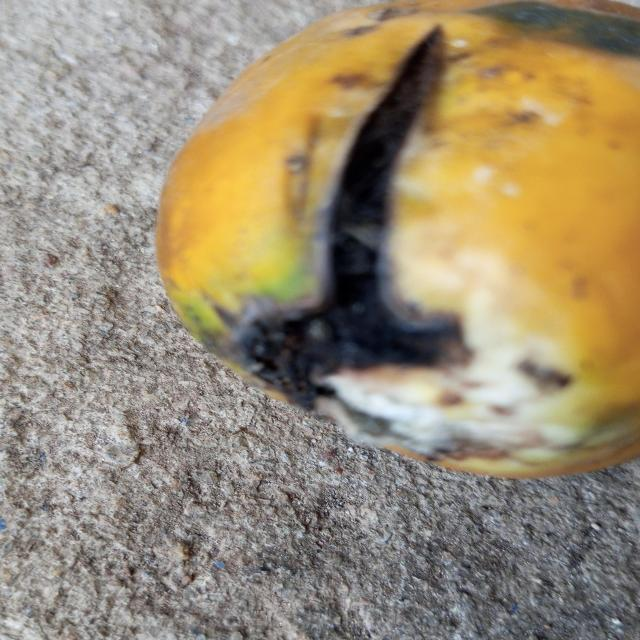damaged: (155, 0, 640, 482)
